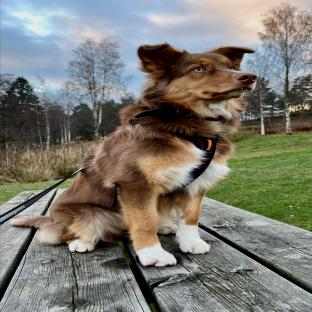Animal: (12, 43, 257, 266)
